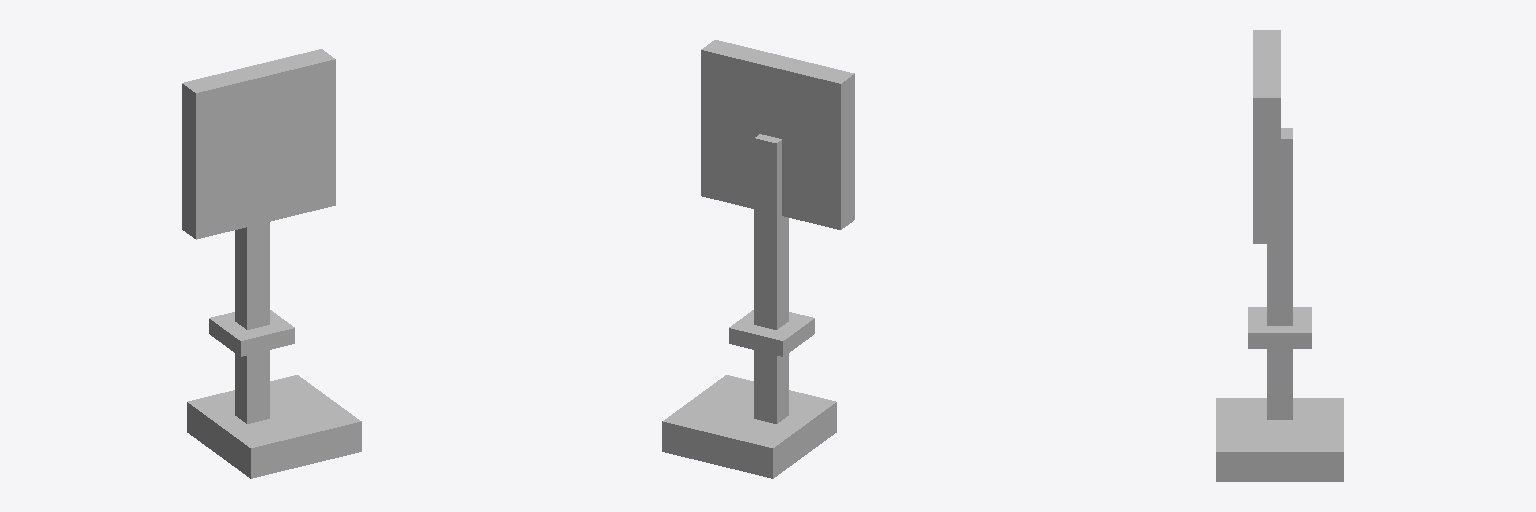
The model's file is SM_Prop_Sign_01.obj.
3 views of the same model, side by side, from view 1: azimuth 30°, elevation 25°; view 2: azimuth 150°, elevation 25°; view 3: azimuth 270°, elevation 25° (orthographic).
Parts seen in each view (by area): view 1: SM_Prop_Sign_01:Mesh; view 2: SM_Prop_Sign_01:Mesh; view 3: SM_Prop_Sign_01:Mesh.
Boxes of the visible parts, box(x1,y1,x2,y2) form: SM_Prop_Sign_01:Mesh: box(182, 49, 361, 478); SM_Prop_Sign_01:Mesh: box(662, 40, 854, 478); SM_Prop_Sign_01:Mesh: box(1216, 30, 1343, 481).
Bounding box in the file's own units: 0.8112 × 2.01 × 0.6105.